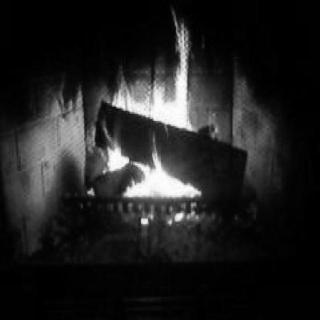Fire: (98, 19, 200, 199)
